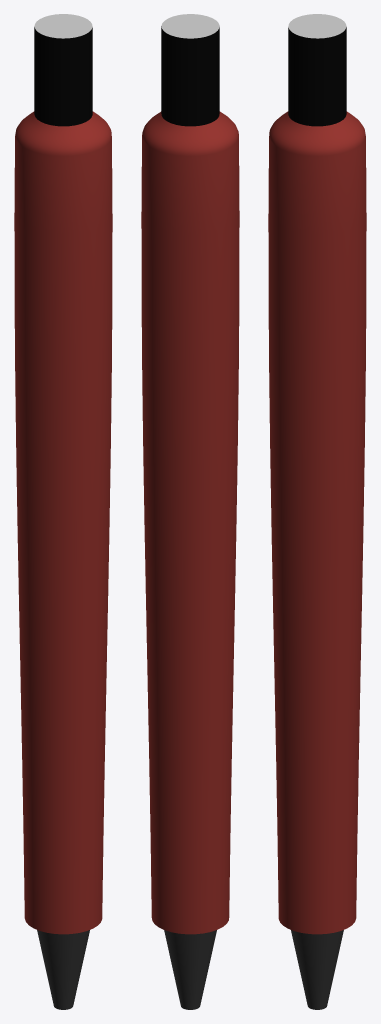
The model's file is stift_zur_unterschrift02_1_5.dae.
3 renders of one model, left to right at view 1: azimuth 30°, elevation 25°; view 2: azimuth 150°, elevation 25°; view 3: azimuth 330°, elevation 25°, orthographic.
Parts seen in each view (by area): view 1: LN-Stift, LN-Stift-Druckkopf, LN-Spitze, Deckfläche_1; view 2: LN-Stift, LN-Stift-Druckkopf, LN-Spitze, Deckfläche_1; view 3: LN-Stift, LN-Stift-Druckkopf, LN-Spitze, Deckfläche_1.
Part boxes in pixels (bbox=[...]): LN-Stift: bbox=[14, 111, 112, 934]; LN-Stift-Druckkopf: bbox=[34, 27, 92, 126]; LN-Spitze: bbox=[37, 930, 89, 1009]; Deckfläche_1: bbox=[34, 14, 92, 38]; LN-Stift: bbox=[141, 111, 239, 934]; LN-Stift-Druckkopf: bbox=[161, 26, 219, 126]; LN-Spitze: bbox=[164, 930, 216, 1009]; Deckfläche_1: bbox=[161, 14, 219, 38]; LN-Stift: bbox=[268, 111, 366, 934]; LN-Stift-Druckkopf: bbox=[288, 27, 346, 126]; LN-Spitze: bbox=[291, 930, 343, 1009]; Deckfläche_1: bbox=[288, 14, 346, 38].
Size of the model in its own units: 1.01 by 11.15 by 1.01.
